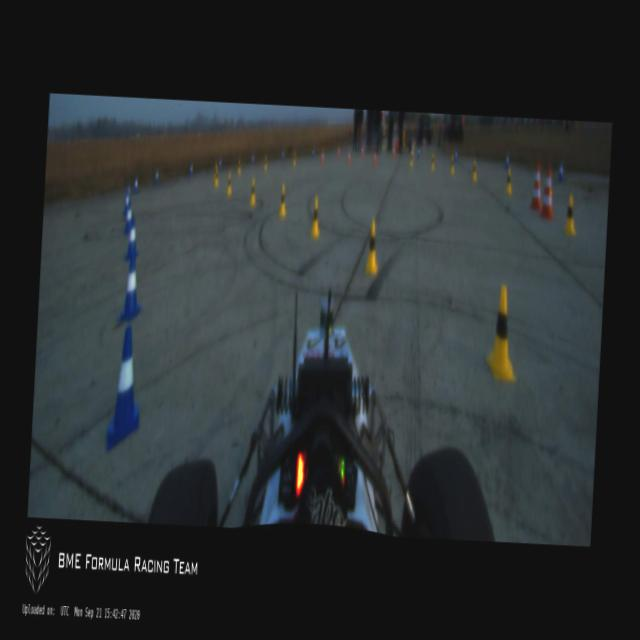blue_cone: (106, 324, 144, 450), (120, 254, 144, 321), (126, 214, 140, 260), (124, 201, 133, 234), (557, 158, 565, 182), (124, 182, 130, 212), (133, 174, 140, 197), (505, 152, 510, 168), (156, 168, 160, 186), (454, 148, 458, 164), (218, 156, 222, 172), (251, 152, 255, 166), (417, 145, 421, 158), (190, 162, 193, 178), (282, 149, 284, 162), (312, 148, 314, 159)
large_orange_cone: (540, 164, 556, 218), (530, 158, 544, 212)
orange_cone: (372, 151, 378, 165), (392, 142, 396, 158), (337, 144, 341, 160), (360, 145, 364, 159), (320, 152, 324, 165), (347, 152, 351, 164)
yellow_cone: (486, 284, 523, 384), (365, 220, 380, 275), (564, 194, 578, 237), (310, 198, 322, 238), (278, 186, 288, 217), (249, 178, 257, 207), (505, 168, 513, 196), (226, 173, 234, 195), (213, 166, 220, 188), (471, 160, 478, 182), (450, 155, 456, 175), (430, 153, 436, 172), (237, 160, 242, 177), (409, 152, 414, 168), (292, 150, 296, 166), (264, 156, 268, 172)
